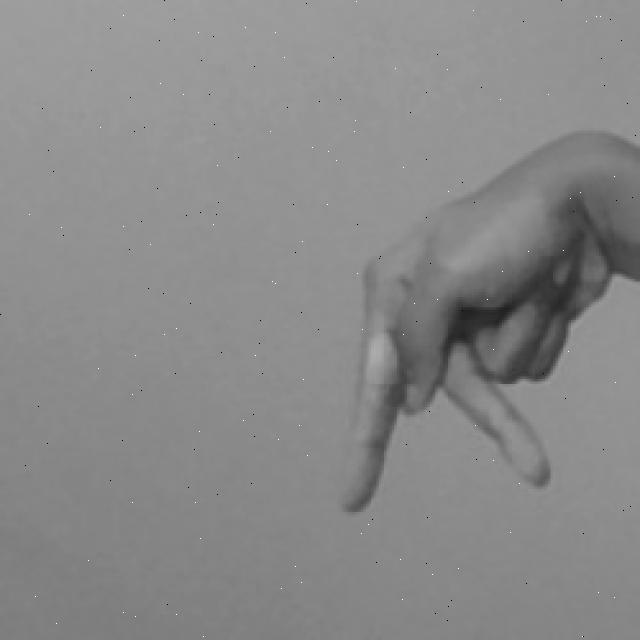P: (325, 120, 640, 517)
